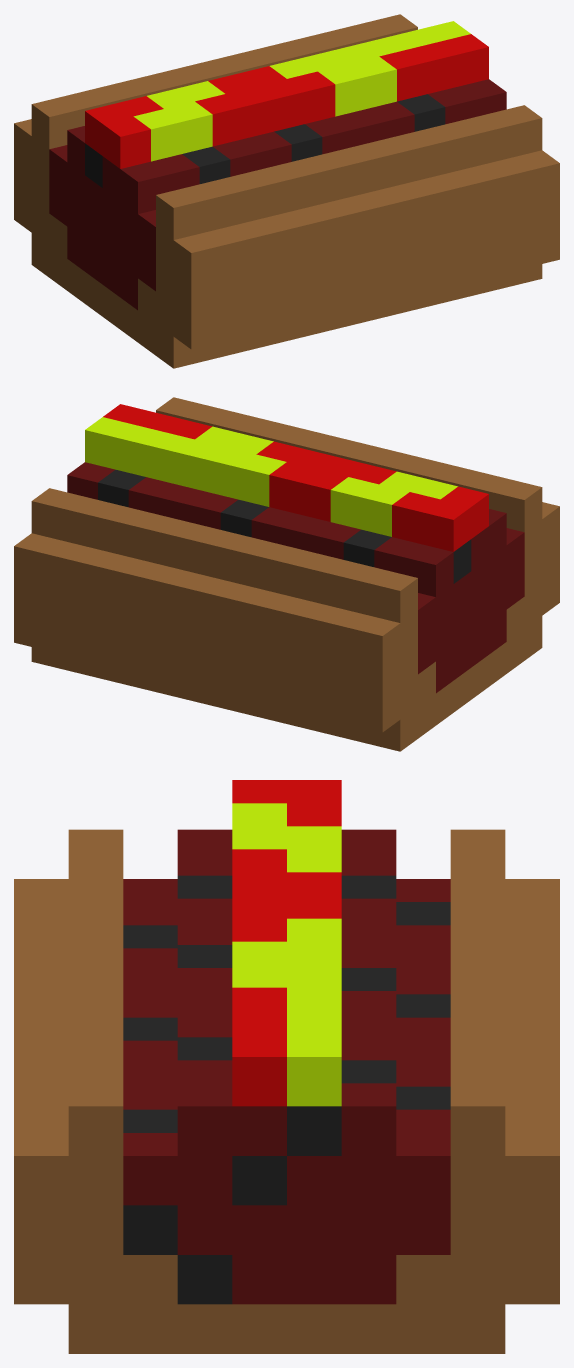
File: dogBunKandM.obj
3 renders of one model, top to bottom at view 1: azimuth 30°, elevation 25°; view 2: azimuth 150°, elevation 25°; view 3: azimuth 270°, elevation 25°, orthographic. The views are drawn at different scales.
Parts seen in each view (by area): view 1: dogBunKandM; view 2: dogBunKandM; view 3: dogBunKandM.
Boxes of the visible parts, x1,y1,x2,y2 form: dogBunKandM: (14, 14, 559, 368); dogBunKandM: (14, 397, 559, 751); dogBunKandM: (14, 780, 559, 1353).
Bounding box in the file's own units: 12 × 6 × 10.
Materials: 1 (1 with a texture image).
